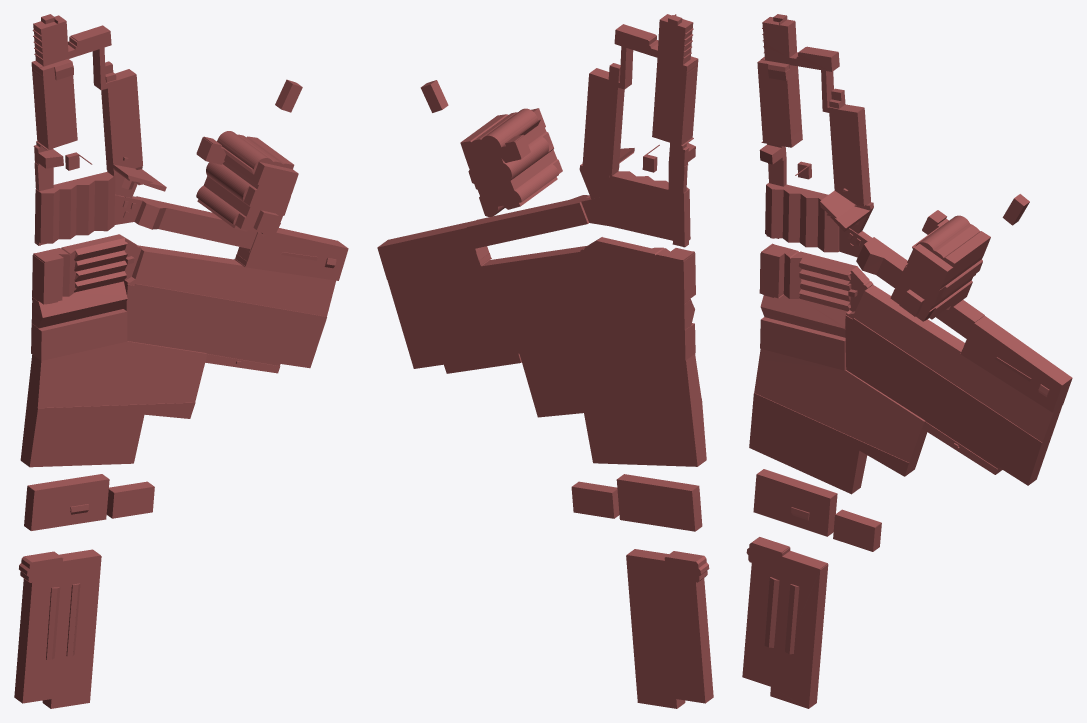
The model's file is additional_buildings_lod22_review.obj.
3 views of the same model, side by side, from view 1: azimuth 30°, elevation 25°; view 2: azimuth 150°, elevation 25°; view 3: azimuth 330°, elevation 25° (orthographic).
Visible parts, largest first — view 1: BAG_0606100000016136, BAG_0606100000002464, BAG_0606100000019105, BAG_0606100000015331, BAG_0606100000001363, BAG_0606100000015637, BAG_0606100000000850, BAG_0606100000013084, BAG_0606100000002076, BAG_0606100000003240, BAG_0606100000011743, BAG_0606100000005763; view 2: BAG_0606100000016136, BAG_0606100000002464, BAG_0606100000019105, BAG_0606100000015331, BAG_0606100000001363, BAG_0606100000015637, BAG_0606100000000850, BAG_0606100000013084, BAG_0606100000002076, BAG_0606100000003240, BAG_0606100000011743, BAG_0606100000005763; view 3: BAG_0606100000016136, BAG_0606100000002464, BAG_0606100000019105, BAG_0606100000015331, BAG_0606100000001363, BAG_0606100000000850, BAG_0606100000015637, BAG_0606100000013084, BAG_0606100000002076, BAG_0606100000003240, BAG_0606100000011743.
Part boxes in pixels (x1,y1,x2,y2): BAG_0606100000016136: (31, 196, 348, 373); BAG_0606100000002464: (20, 341, 207, 467); BAG_0606100000019105: (14, 549, 101, 708); BAG_0606100000015331: (196, 131, 298, 236); BAG_0606100000001363: (31, 14, 111, 150); BAG_0606100000015637: (34, 171, 142, 245); BAG_0606100000000850: (92, 47, 153, 185); BAG_0606100000013084: (24, 474, 109, 530); BAG_0606100000002076: (106, 481, 154, 518); BAG_0606100000003240: (33, 142, 63, 191); BAG_0606100000011743: (115, 166, 166, 197); BAG_0606100000005763: (275, 79, 302, 112); BAG_0606100000016136: (377, 195, 695, 373); BAG_0606100000002464: (519, 341, 706, 466); BAG_0606100000019105: (626, 549, 713, 708); BAG_0606100000015331: (460, 108, 562, 216); BAG_0606100000001363: (614, 14, 698, 146); BAG_0606100000015637: (581, 170, 690, 247); BAG_0606100000000850: (582, 46, 634, 174); BAG_0606100000013084: (616, 474, 702, 531); BAG_0606100000002076: (571, 481, 619, 518); BAG_0606100000003240: (668, 143, 695, 193); BAG_0606100000011743: (579, 163, 609, 199); BAG_0606100000005763: (420, 80, 448, 112); BAG_0606100000016136: (759, 237, 1072, 485); BAG_0606100000002464: (749, 349, 927, 494); BAG_0606100000019105: (742, 537, 828, 708); BAG_0606100000015331: (890, 210, 990, 321); BAG_0606100000001363: (757, 14, 839, 147); BAG_0606100000000850: (820, 70, 870, 218); BAG_0606100000015637: (765, 183, 871, 257); BAG_0606100000013084: (753, 469, 837, 536); BAG_0606100000002076: (833, 509, 881, 551); BAG_0606100000003240: (759, 143, 786, 186); BAG_0606100000011743: (830, 201, 873, 233).
Bounding box in the file's own units: 167 × 339 × 42.14.
